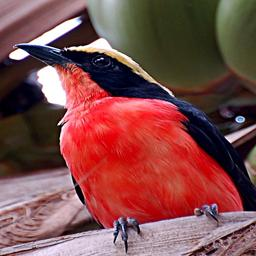bird: (68, 128, 256, 256)
